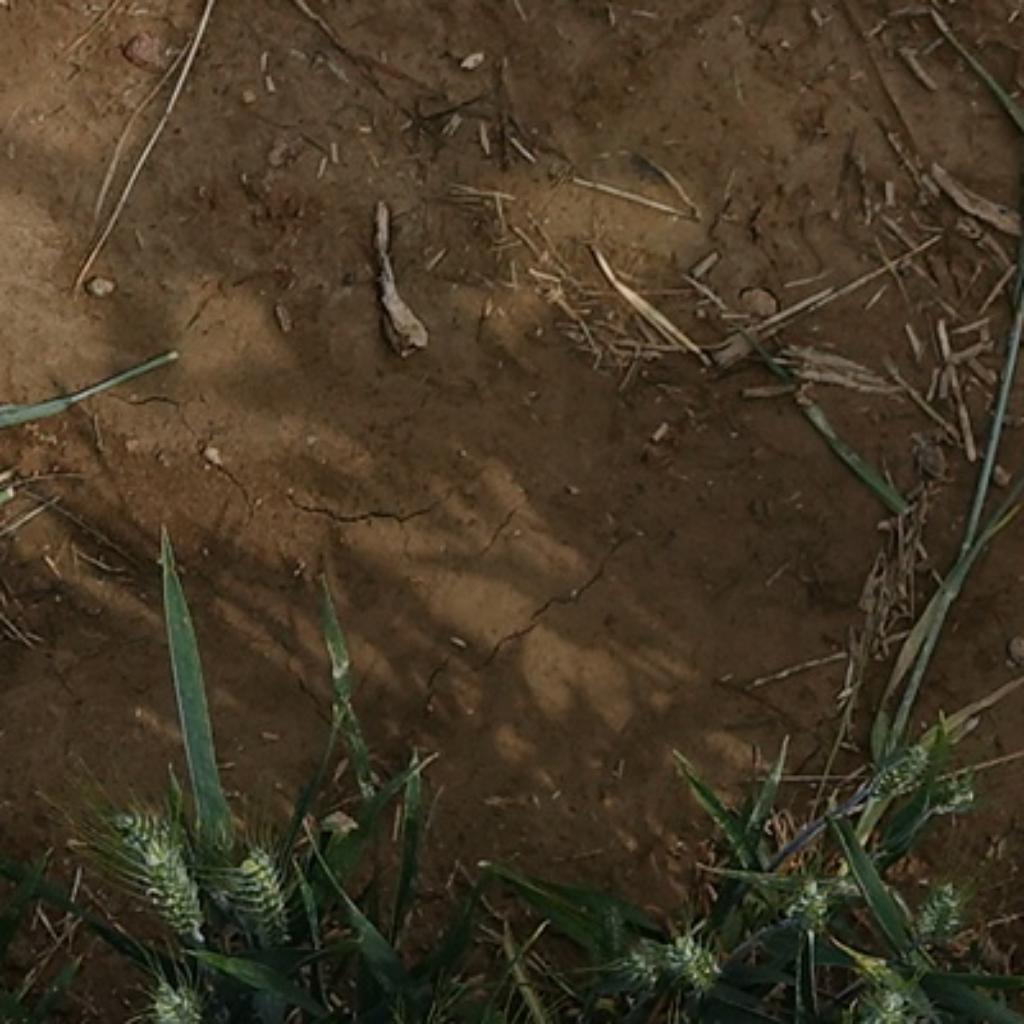0-0: (230, 834, 295, 941), (105, 802, 195, 877), (770, 860, 855, 934), (130, 865, 204, 947), (865, 744, 929, 812), (908, 878, 967, 944), (140, 970, 212, 1024), (676, 924, 728, 990), (619, 929, 677, 987), (855, 975, 921, 1024), (927, 771, 978, 822), (373, 1021, 458, 1024)
